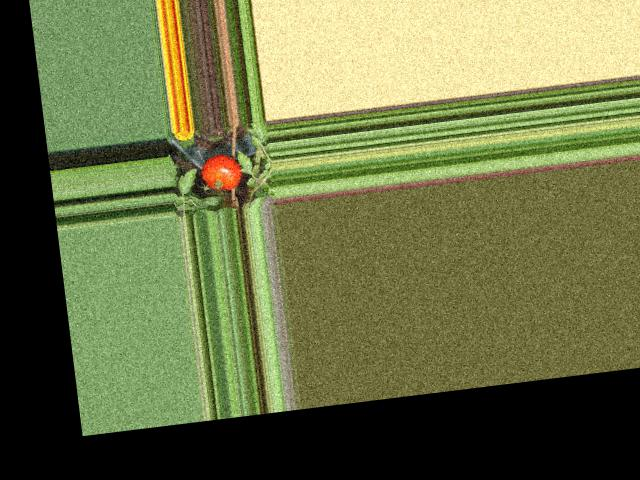tomato: (199, 152, 244, 193)
